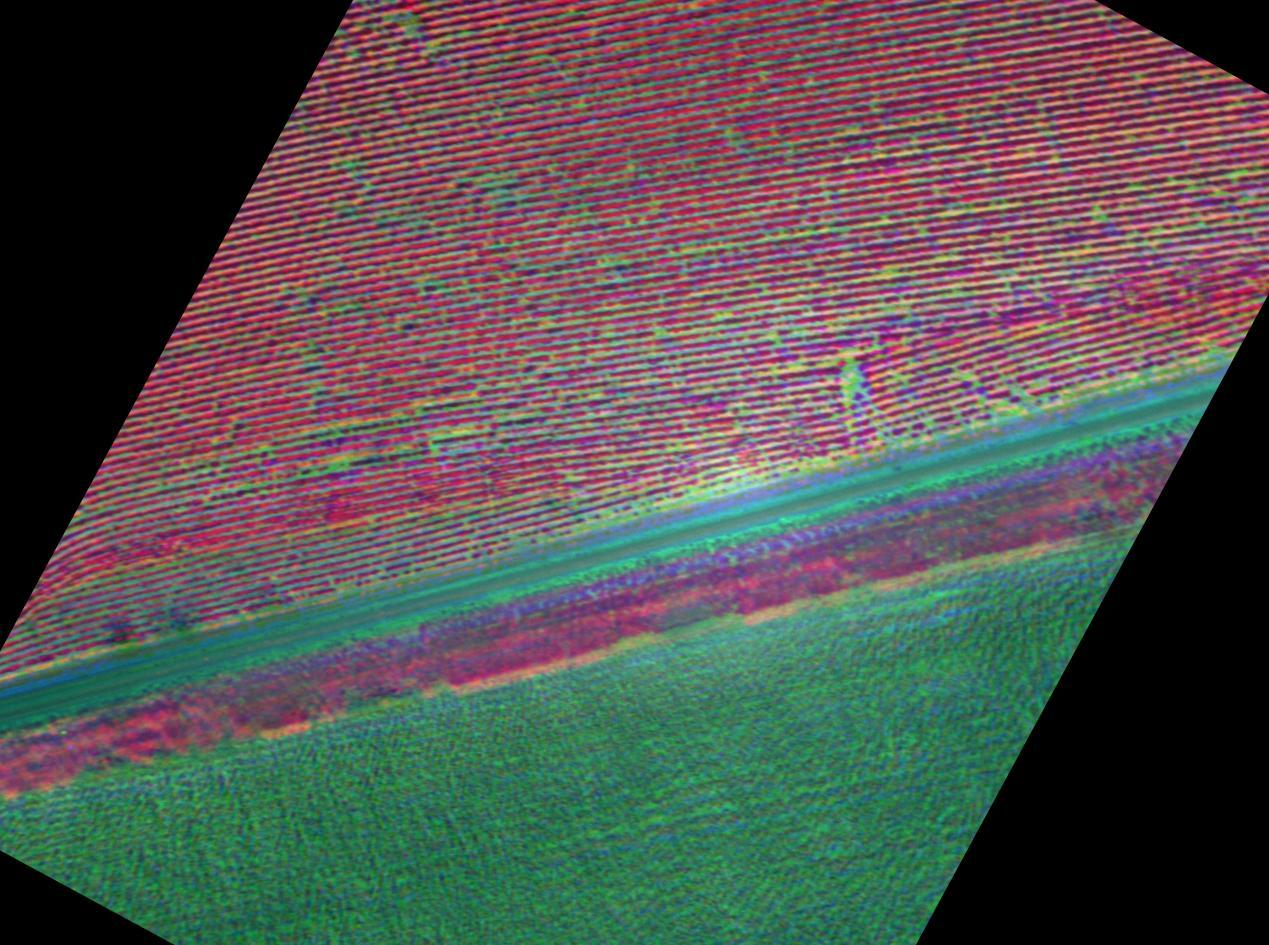dc: (847, 369, 854, 378), (406, 17, 412, 23), (657, 328, 663, 334), (693, 486, 699, 492), (847, 385, 853, 390), (331, 464, 337, 469)
